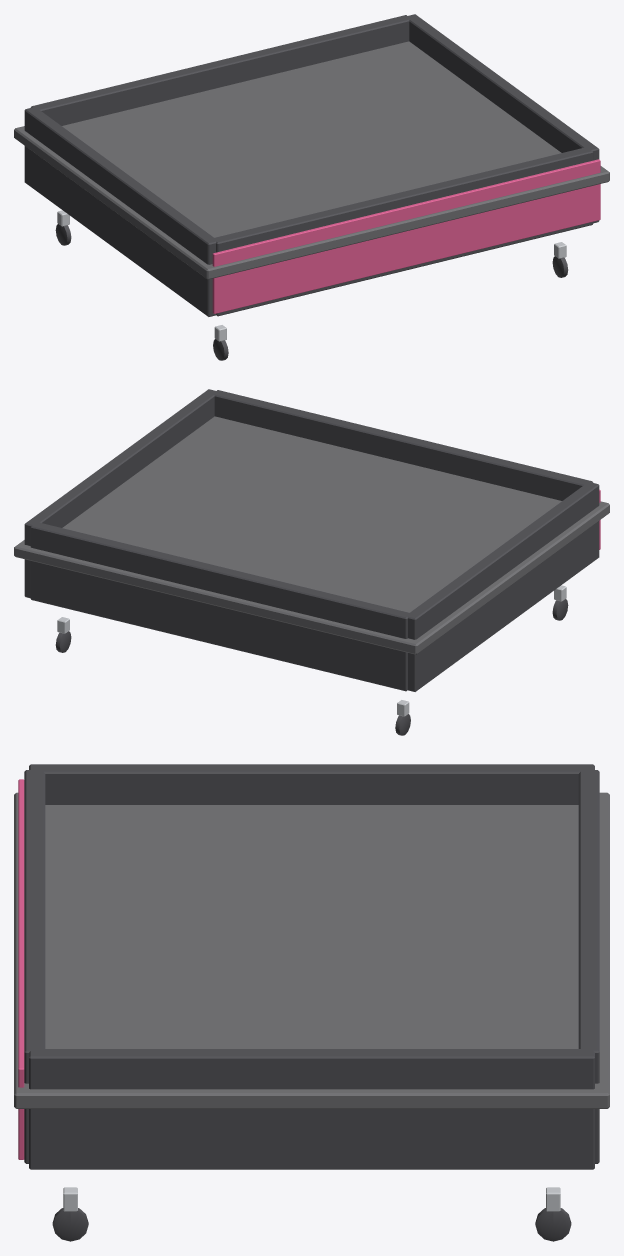
The model's file is live-music-venue-and-festival-stage-drum-riser-fb450f31.glb.
The picture shows the model from 3 angles, top to bottom: view 1: azimuth 30°, elevation 25°; view 2: azimuth 150°, elevation 25°; view 3: azimuth 270°, elevation 25°; orthographic projection. The views are drawn at different scales.
Parts seen in each view (by area): view 1: drum-riser; view 2: drum-riser; view 3: drum-riser.
Part boxes in pixels (x1=…): drum-riser: x1=14, y1=14, x2=609, y2=360; drum-riser: x1=14, y1=389, x2=609, y2=735; drum-riser: x1=14, y1=764, x2=609, y2=1241.
Size of the model in its own units: 2.4 by 0.7501 by 2.
